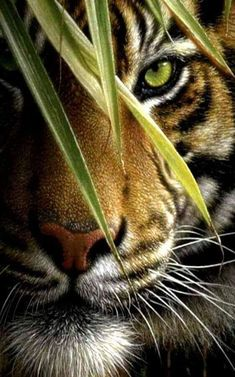Tigrew: (11, 6, 228, 365)
